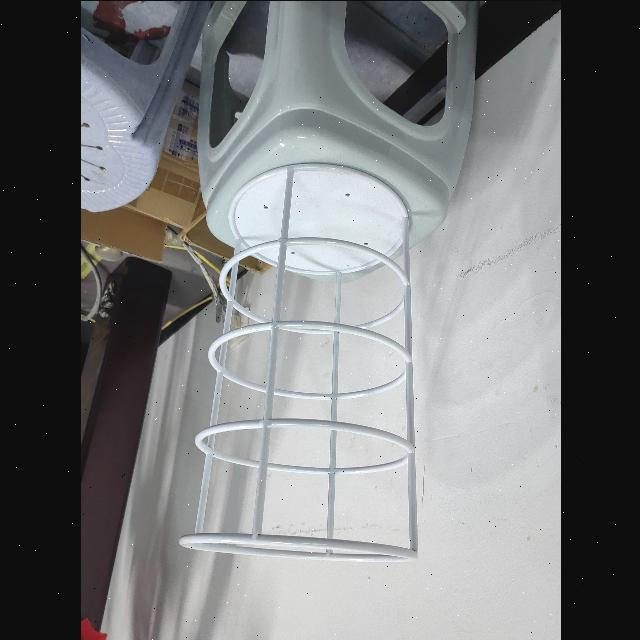S: (170, 158, 422, 564)
